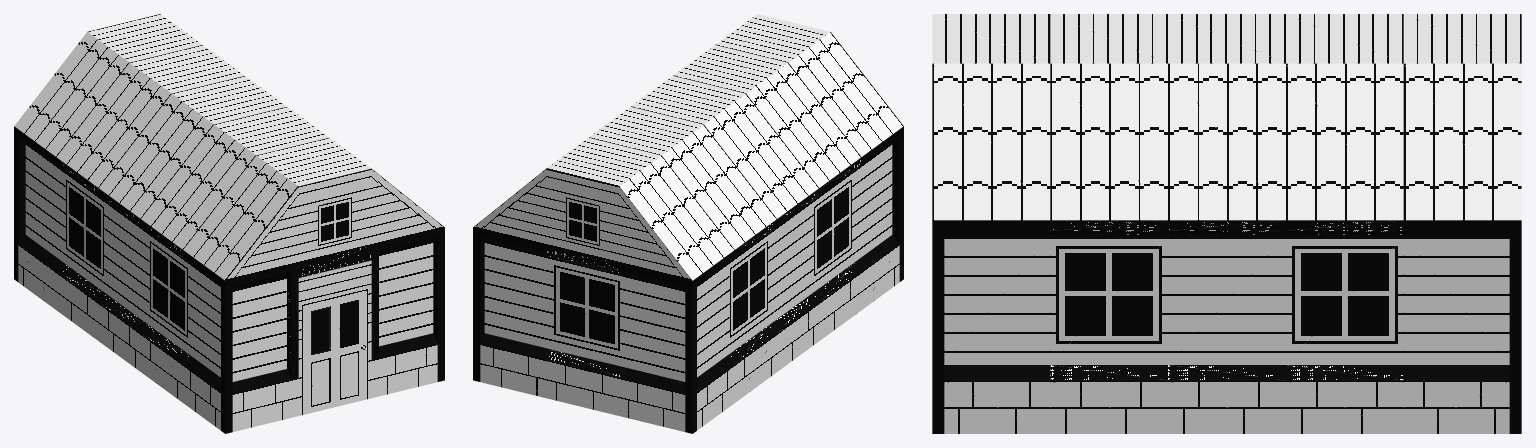
File: house_1.glb
3 renders of one model, left to right at view 1: azimuth 30°, elevation 25°; view 2: azimuth 150°, elevation 25°; view 3: azimuth 270°, elevation 25°, orthographic. The views are drawn at different scales.
Visible parts, largest first — view 1: hc_house_1; view 2: hc_house_1; view 3: hc_house_1.
Part boxes in pixels (left/top/right/bottom): hc_house_1: left=14, top=14, right=444, bottom=433; hc_house_1: left=473, top=14, right=903, bottom=433; hc_house_1: left=932, top=14, right=1521, bottom=433.
Size of the model in its own units: 3 by 3 by 5.
Materials: 3 (3 with a texture image).
